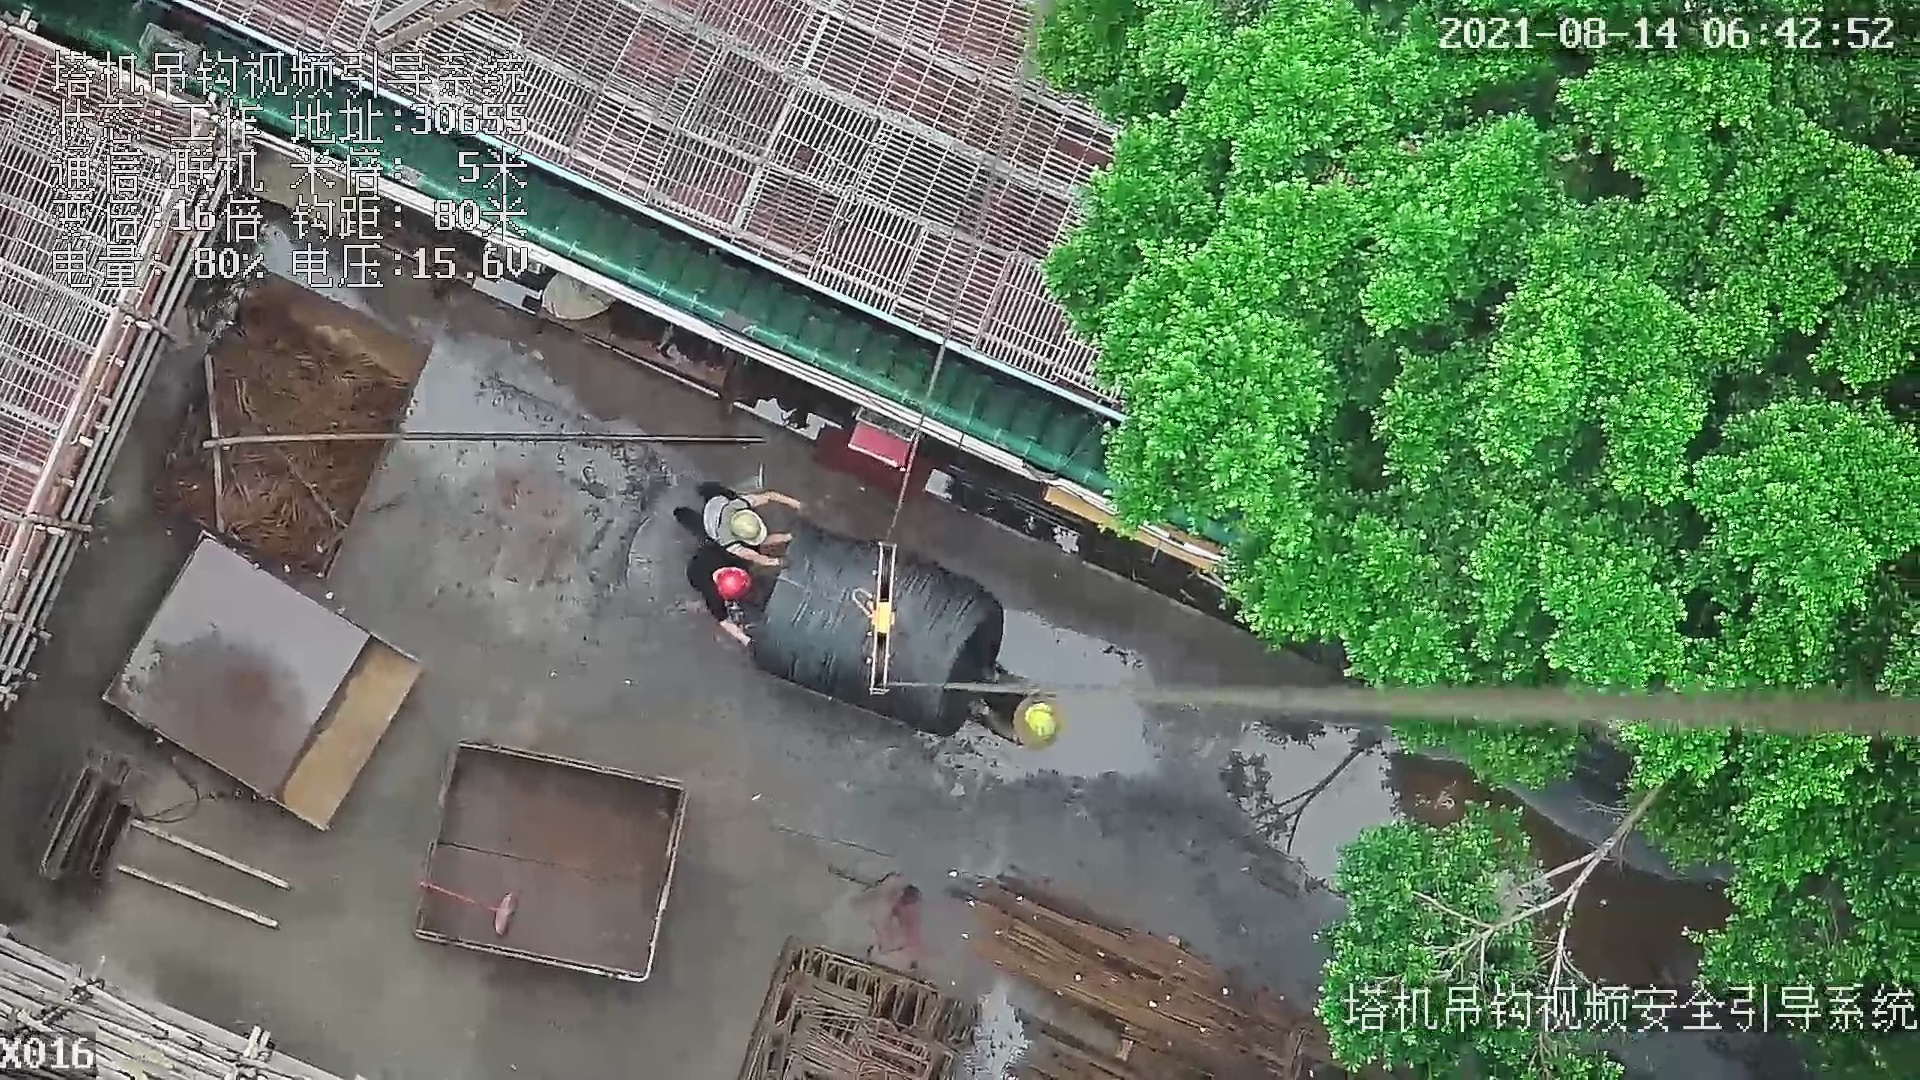helmet: (1021, 701, 1066, 742), (729, 512, 771, 552), (719, 568, 754, 601)
hook: (849, 542, 901, 700)
person: (681, 542, 777, 653), (679, 476, 797, 564), (967, 663, 1070, 762)
